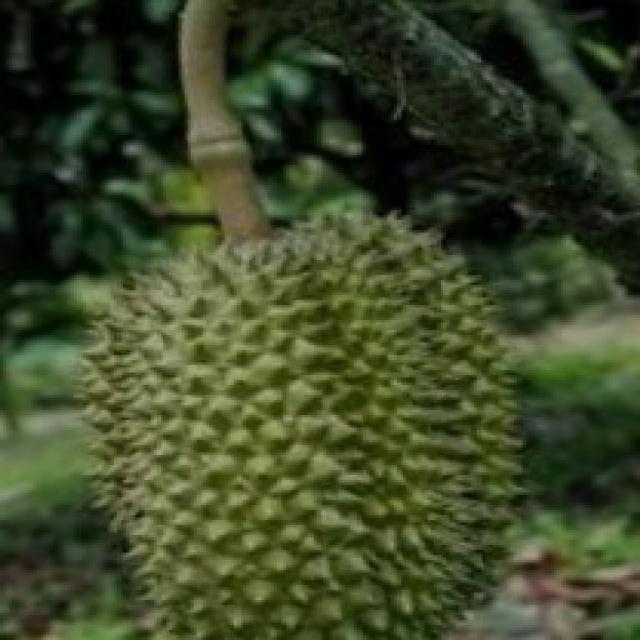fruit: (225, 167, 600, 635), (3, 188, 379, 638)
